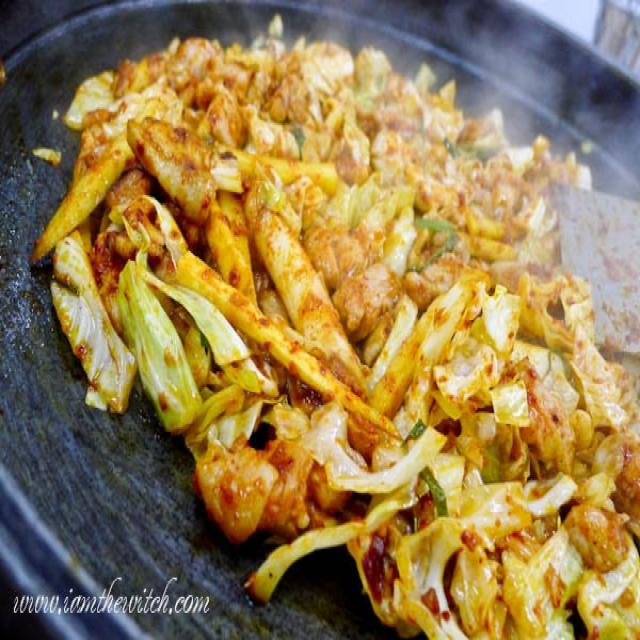鸡肉料理 含炸鸡: (17, 17, 636, 628)
